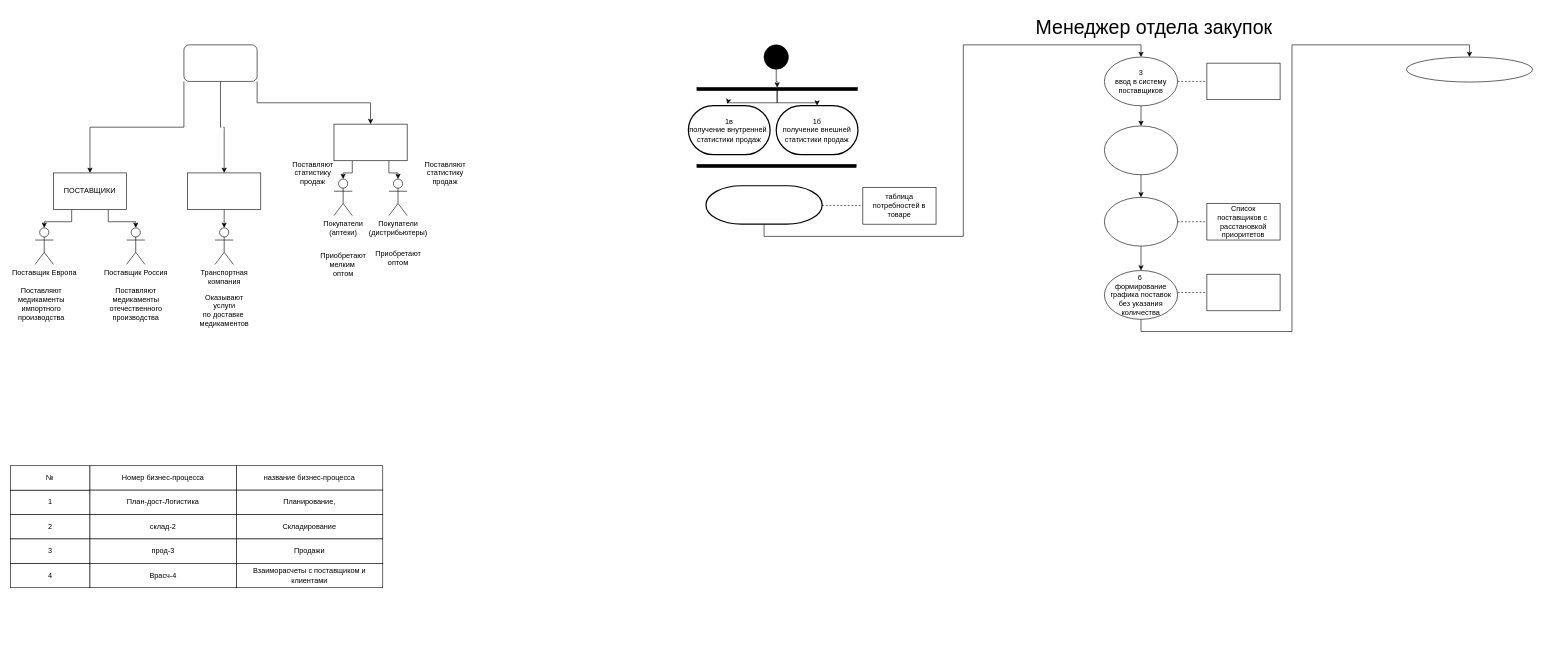
Image size: 1543x666. Some labels were removed from this diagram. The box of each missing label's shape, as (x1, y1, x2, y2) in pixels:
2 расчет потребности в товаре: (705, 185, 822, 224)
4 анализ предложений поставщиков: (1104, 125, 1178, 175)
5 выбор поставщиков: (1104, 197, 1178, 246)
7 расчет необходимого количества закупок: (1406, 56, 1533, 82)
График поставок: (1206, 274, 1280, 311)
ДОСТАВКА: (187, 172, 261, 210)
ЗАО "МЕД": (183, 44, 257, 81)
Покупатели: (333, 124, 407, 161)
Прайс-листы, контакты, поставщиков: (1206, 63, 1280, 100)
